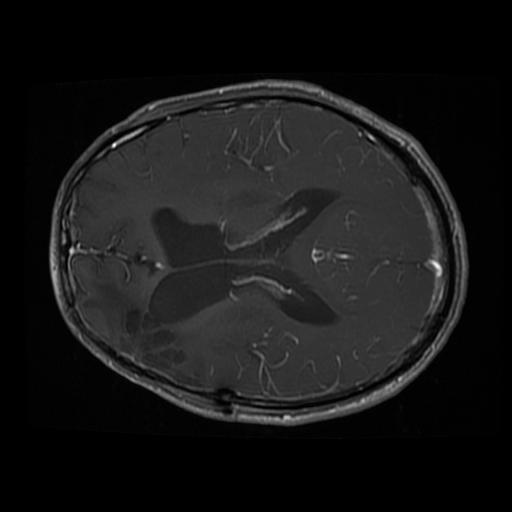glioma: (115, 307, 186, 369)
